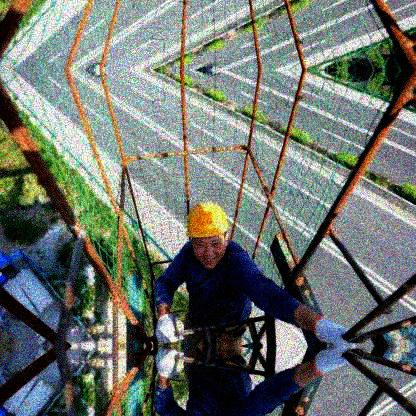helmet: (187, 201, 234, 270)
